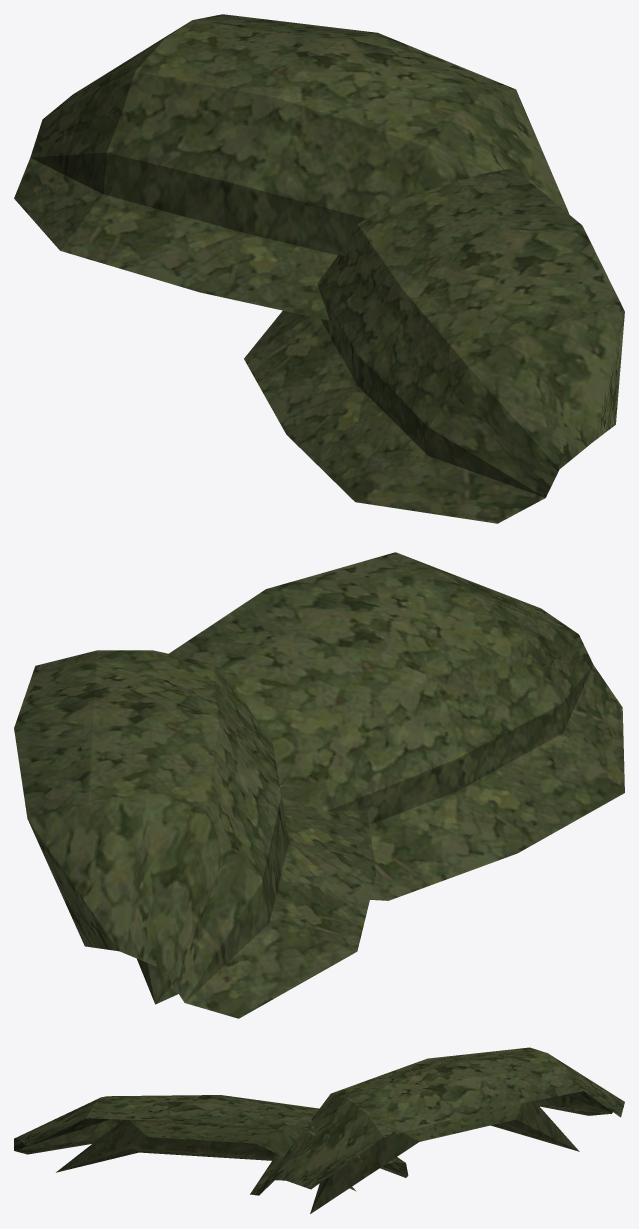
File: plants_scrub01.fbx
The picture shows the model from 3 angles, top to bottom: view 1: azimuth 30°, elevation 25°; view 2: azimuth 150°, elevation 25°; view 3: azimuth 270°, elevation 25°; orthographic projection. The views are drawn at different scales.
Visible parts, largest first — view 1: obj0.134; view 2: obj0.134; view 3: obj0.134.
Boxes of the visible parts, left/top/right/bottom form: obj0.134: left=14, top=14, right=624, bottom=523; obj0.134: left=14, top=552, right=624, bottom=1018; obj0.134: left=14, top=1047, right=624, bottom=1213.
Size of the model in its own units: 4.77 by 2.52 by 10.01.
